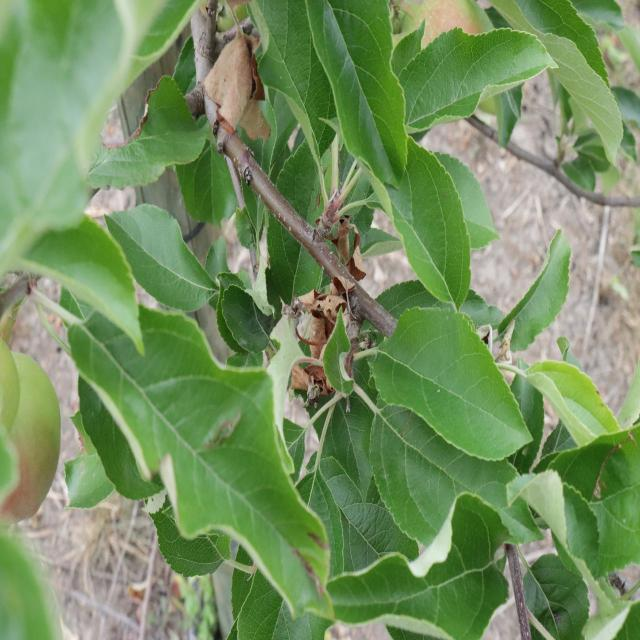-FireBlight-: (206, 15, 276, 138), (277, 295, 342, 399)
